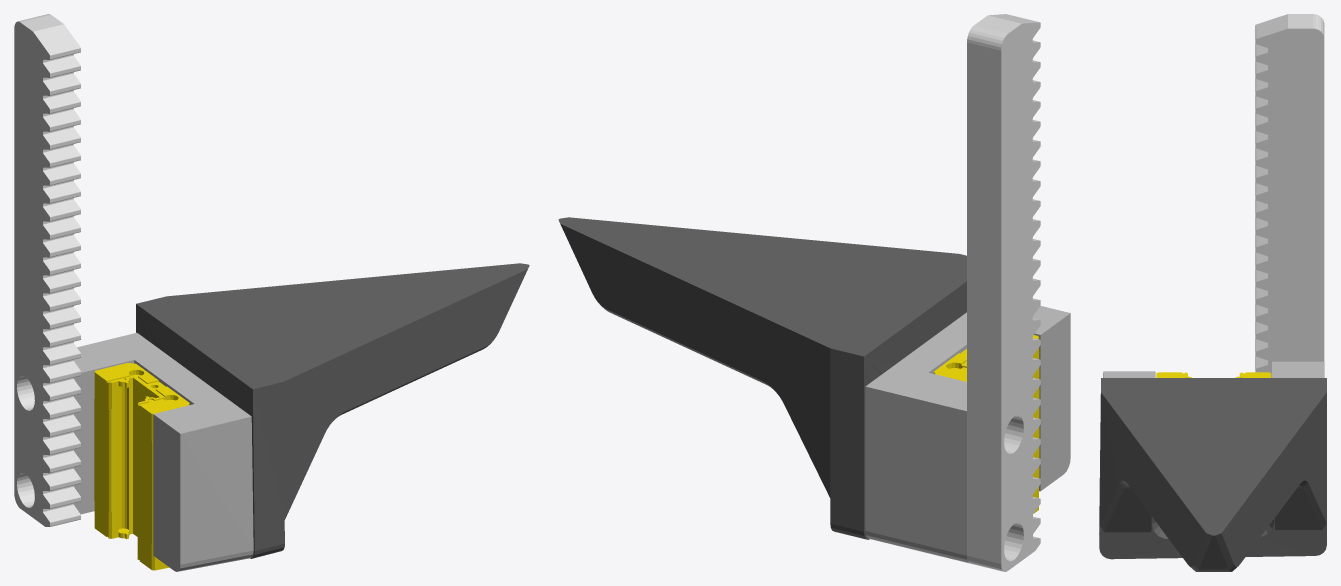
Rendered from finger_right_link.glb.
3 views of the same model, side by side, from view 1: azimuth 30°, elevation 25°; view 2: azimuth 150°, elevation 25°; view 3: azimuth 270°, elevation 25° (orthographic). The views are drawn at different scales.
Parts seen in each view (by area): view 1: colored_right_finger_finger_black, colored_right_finger_rack_metal, colored_right_finger_carriage_grey, colored_right_finger_travel_stop_yellow; view 2: colored_right_finger_finger_black, colored_right_finger_rack_metal, colored_right_finger_carriage_grey, colored_right_finger_travel_stop_yellow; view 3: colored_right_finger_finger_black, colored_right_finger_rack_metal, colored_right_finger_carriage_grey, colored_right_finger_travel_stop_yellow.
Boxes of the visible parts, box(x1,y1,x2,y2) form: colored_right_finger_finger_black: box(136, 263, 529, 558); colored_right_finger_rack_metal: box(14, 14, 80, 526); colored_right_finger_carriage_grey: box(74, 332, 253, 571); colored_right_finger_travel_stop_yellow: box(94, 363, 189, 570); colored_right_finger_finger_black: box(558, 217, 966, 539); colored_right_finger_rack_metal: box(967, 14, 1040, 571); colored_right_finger_carriage_grey: box(865, 305, 1070, 563); colored_right_finger_travel_stop_yellow: box(934, 335, 1039, 513); colored_right_finger_finger_black: box(1099, 378, 1326, 571); colored_right_finger_rack_metal: box(1255, 14, 1324, 377); colored_right_finger_carriage_grey: box(1103, 361, 1324, 377); colored_right_finger_travel_stop_yellow: box(1156, 372, 1271, 377).
Bounding box in the file's own units: 0.0886 × 0.0931 × 0.0395.
